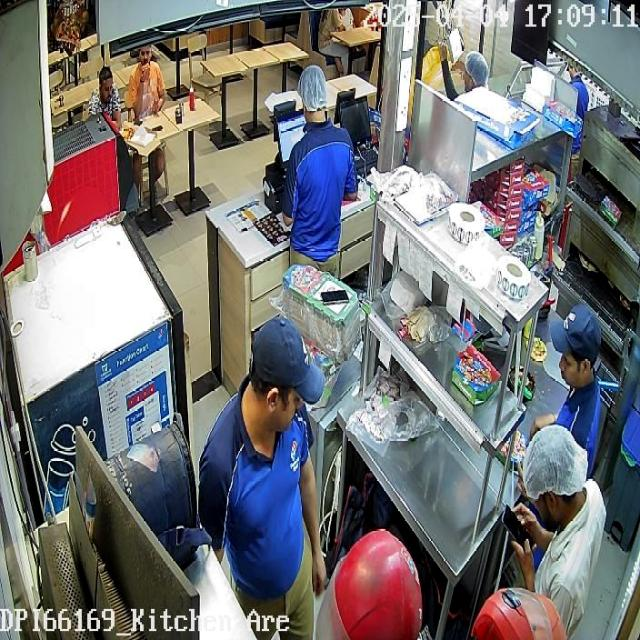helmet: (316, 527, 422, 639), (469, 587, 567, 639)
no_helmet: (242, 316, 326, 456), (521, 425, 590, 533), (549, 304, 601, 389), (296, 65, 326, 122)
